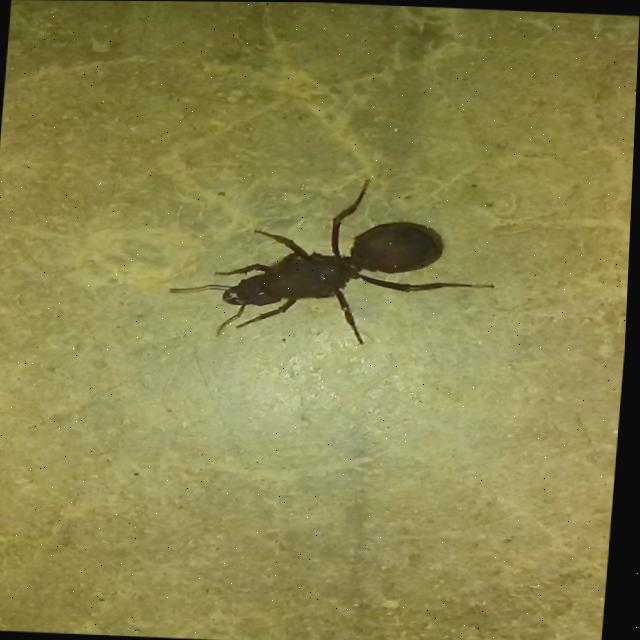Alive-Female-Dealate: (166, 171, 505, 349)
